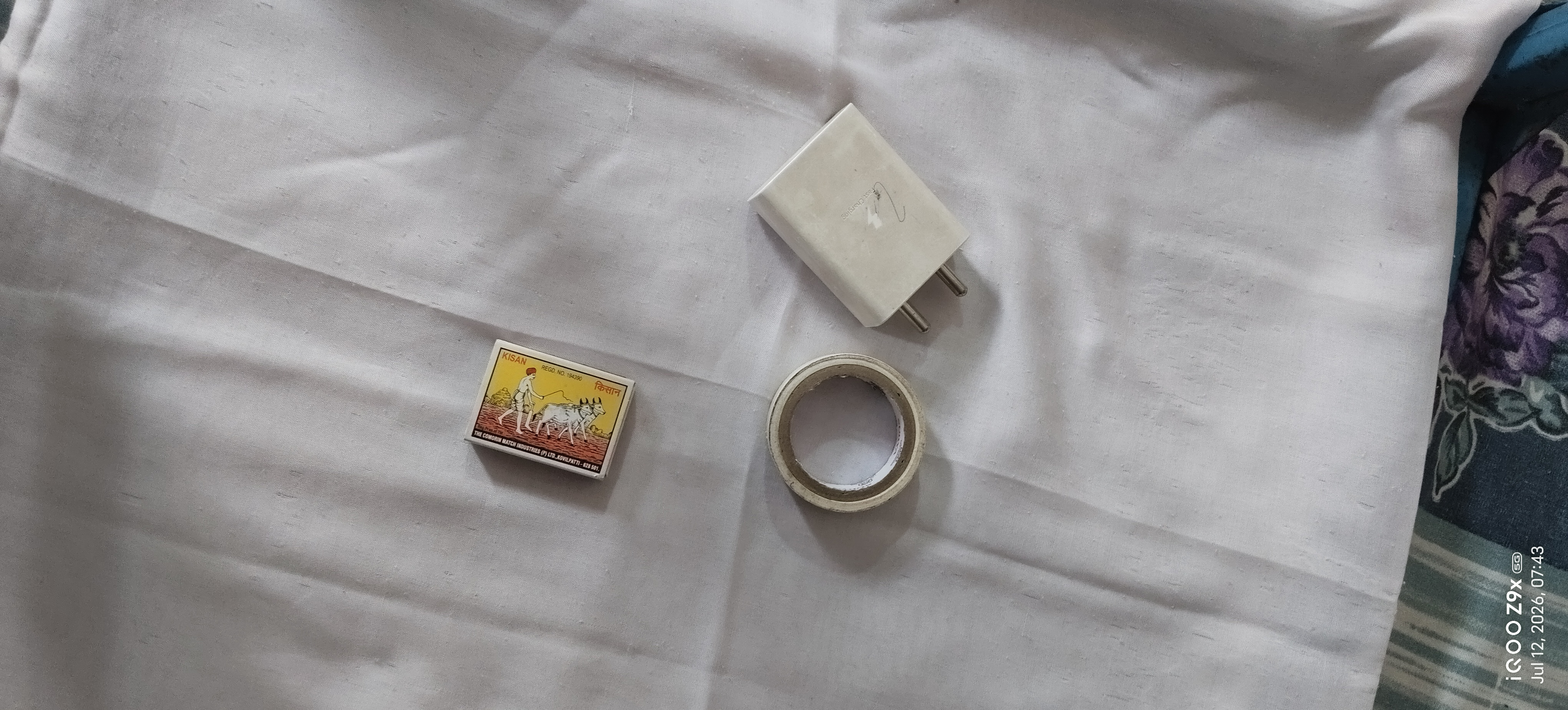charger: (731, 91, 1004, 348)
matchbox: (459, 325, 645, 503)
tape_roll: (747, 348, 964, 531)
